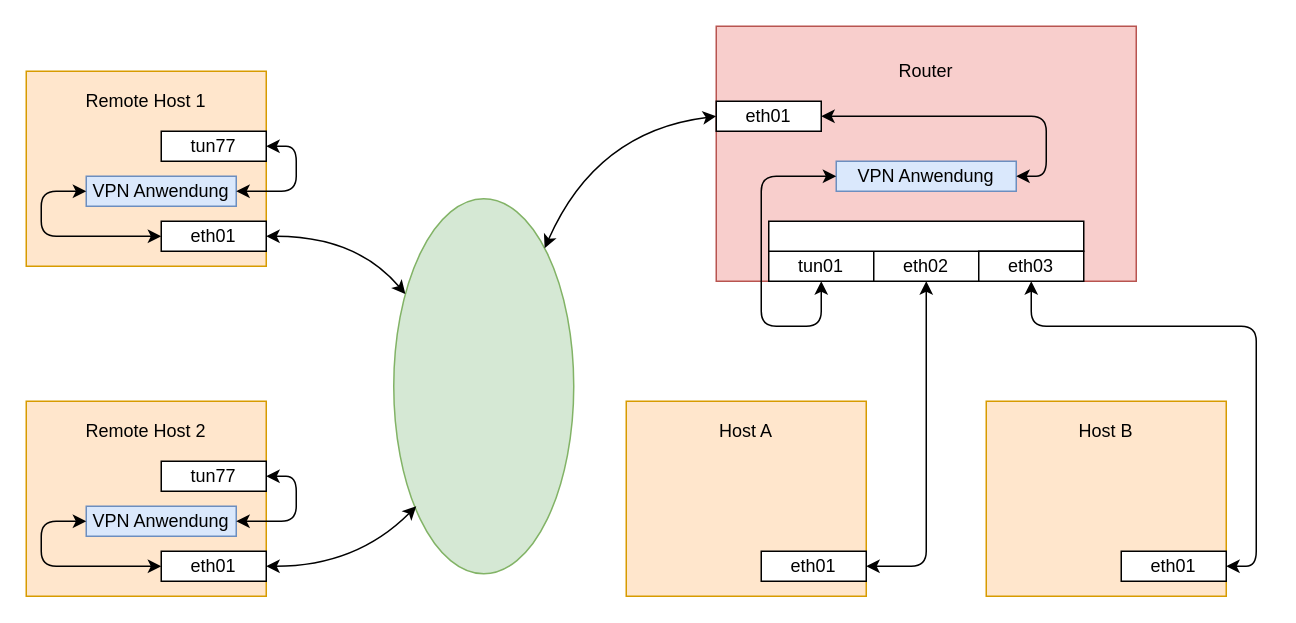
Some shapes in this 1296 by 623 pixel diagram are drawn without their labels. The box of each missing label's shape, as (x1, y1, x2, y2) in pixels:
Bridge: (767, 220, 1084, 251)
Internet: (392, 197, 574, 574)
